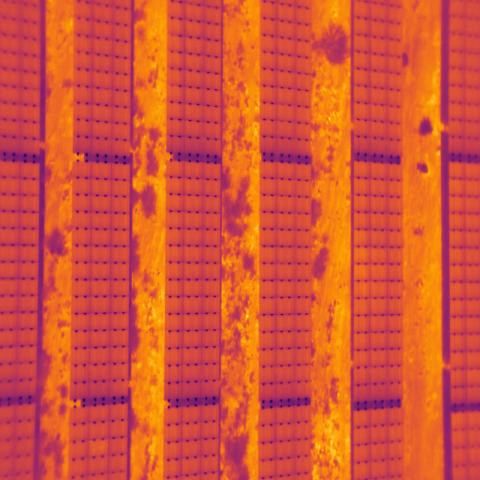fault: (88, 440, 108, 456)
